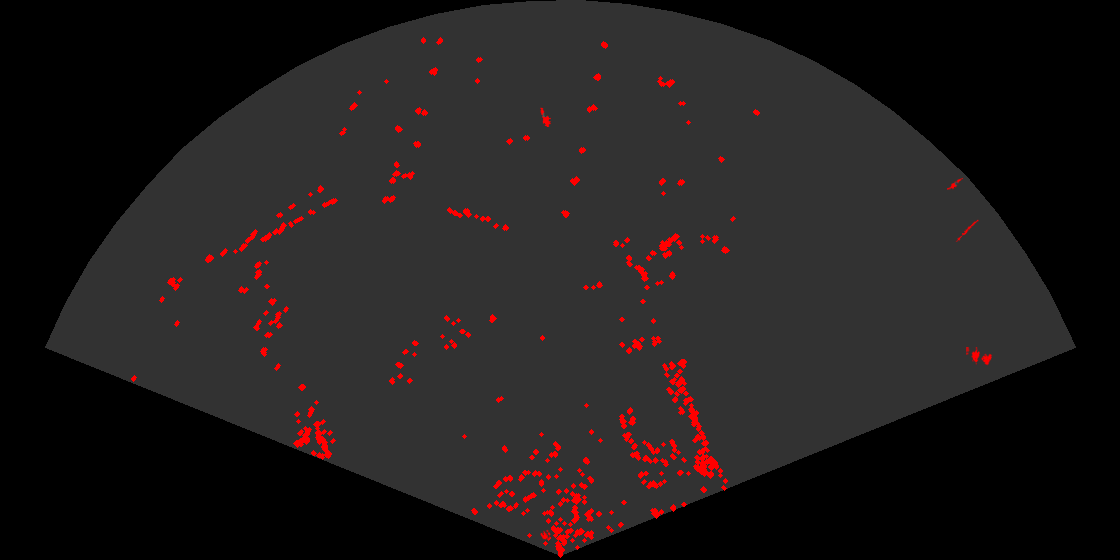ball: (539, 528, 552, 541)
cage: (966, 347, 994, 367)
chain: (954, 218, 979, 242)
frogman: (539, 107, 552, 127), (947, 177, 963, 190)
